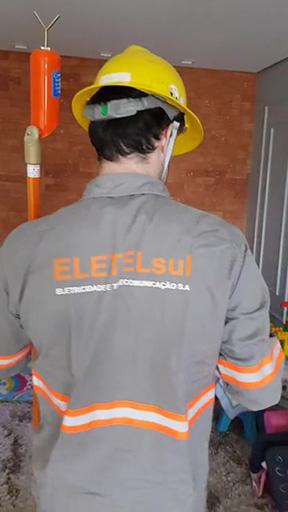Detector_Tensao_Contato: (29, 9, 61, 140)
